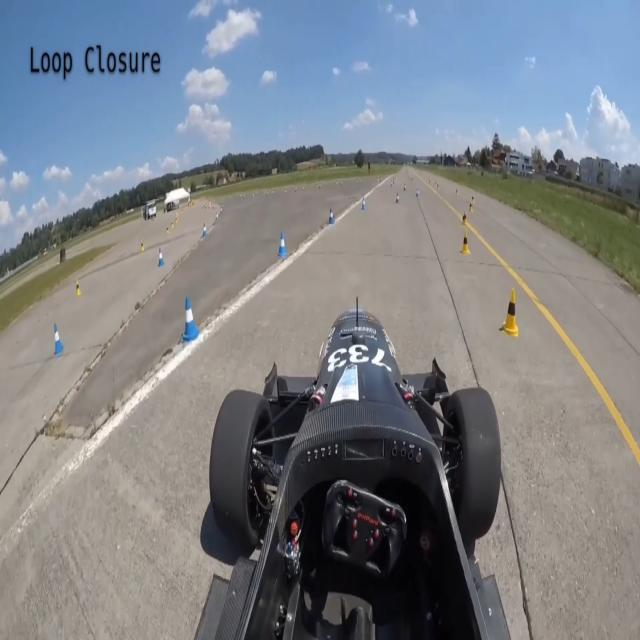blue_cone: (180, 298, 200, 344), (52, 324, 64, 356), (276, 230, 288, 259), (156, 247, 164, 268), (328, 207, 336, 226), (202, 222, 208, 238), (361, 196, 366, 211), (396, 192, 400, 204)
yellow_cone: (500, 286, 521, 338), (460, 230, 471, 254), (75, 278, 82, 298), (462, 211, 469, 227), (140, 240, 145, 253), (468, 202, 474, 212), (170, 220, 174, 230), (166, 225, 170, 235)
